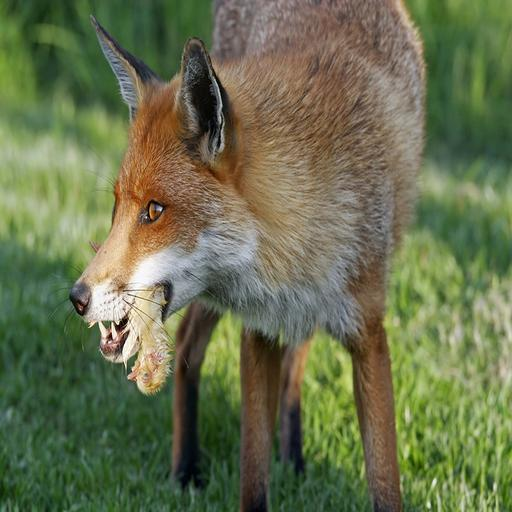Fox: (69, 0, 432, 512)
